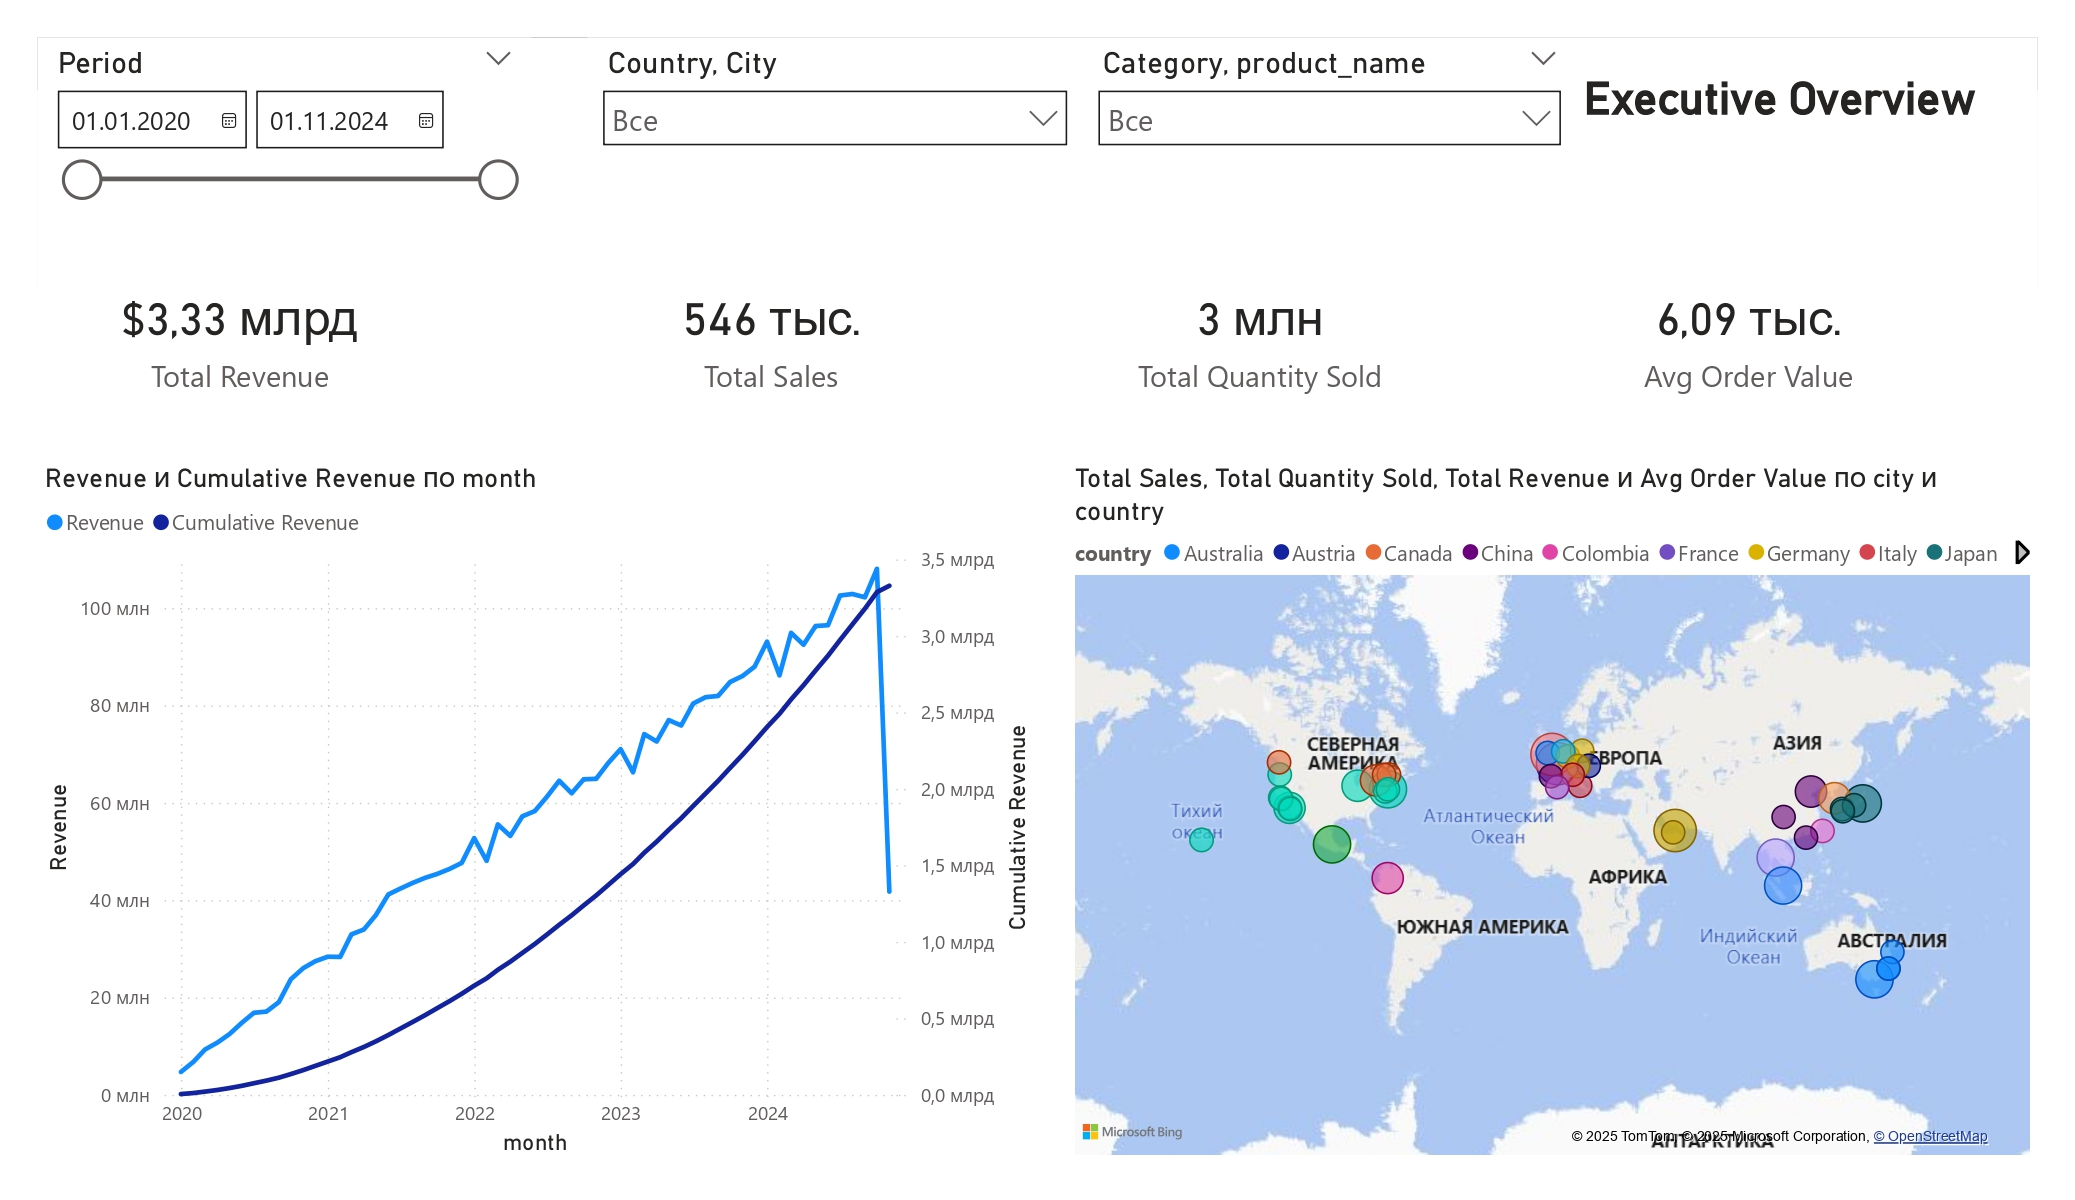

What the dashboard file says about the page in this screenshot:
{"tool":"powerbi","page":{"name":"Executive Overview","canvas":[1280,720],"ordinal":0},"visuals":[{"type":"card","fields":{"Values":["public analytics_sales_valid.Total Revenue"]},"box":[12.3,142.3,234.4,98.2],"z":0},{"type":"card","fields":{"Values":["public analytics_sales_valid.Total Sales"]},"box":[352.1,142.3,234.4,98.2],"z":1000},{"type":"card","fields":{"Values":["public analytics_sales_valid.Total Quantity Sold"]},"box":[668.7,142.3,227,98.2],"z":2000},{"type":"card","fields":{"Values":["public analytics_sales_valid.Avg Order Value"]},"box":[985.3,142.3,219.6,98.2],"z":3000},{"type":"lineChart","fields":{"Category":["public monthly_revenue.month"],"Y":["Sum(public monthly_revenue.monthly_revenue)"],"Y2":["public analytics_sales_valid.Cumulative Revenue"]},"box":[0,271.2,640.5,449.1],"z":4000},{"type":"slicer","fields":{"Values":["public analytics_sales_valid.country","public analytics_sales_valid.city"]},"box":[352.2,0,316.5,95.7],"z":5000},{"type":"slicer","fields":{"Values":["public analytics_sales_valid.category_name","public analytics_sales_valid.product_name"]},"box":[668.7,0,316.5,94.4],"z":6000},{"type":"slicer","fields":{"Values":["public monthly_revenue.month"]},"box":[0,0,316.5,155.7],"z":7000},{"type":"map","fields":{"Category":["public analytics_sales_valid.city"],"Size":["public analytics_sales_valid.Total Sales"],"Series":["public analytics_sales_valid.country"]},"box":[658.9,271.2,620.9,449.1],"z":8000},{"type":"textbox","box":[985.3,0,294.5,94.5],"z":9000}]}

Visuals, with their boxes in screenshot pixels (x1, y1, x2, y2):
card - public analytics_sales_valid.Total Revenue: bbox=(57, 260, 423, 413)
card - public analytics_sales_valid.Total Sales: bbox=(588, 260, 954, 413)
card - public analytics_sales_valid.Total Quantity Sold: bbox=(1082, 260, 1437, 413)
card - public analytics_sales_valid.Avg Order Value: bbox=(1577, 260, 1920, 413)
lineChart - public monthly_revenue.month x Sum(public monthly_revenue.monthly_revenue): bbox=(38, 461, 1038, 1162)
slicer - public analytics_sales_valid.country x public analytics_sales_valid.city: bbox=(588, 38, 1082, 187)
slicer - public analytics_sales_valid.category_name x public analytics_sales_valid.product_name: bbox=(1082, 38, 1577, 185)
slicer - public monthly_revenue.month: bbox=(38, 38, 532, 281)
map - public analytics_sales_valid.city x public analytics_sales_valid.Total Sales: bbox=(1067, 461, 2037, 1162)
textbox: bbox=(1577, 38, 2037, 185)
